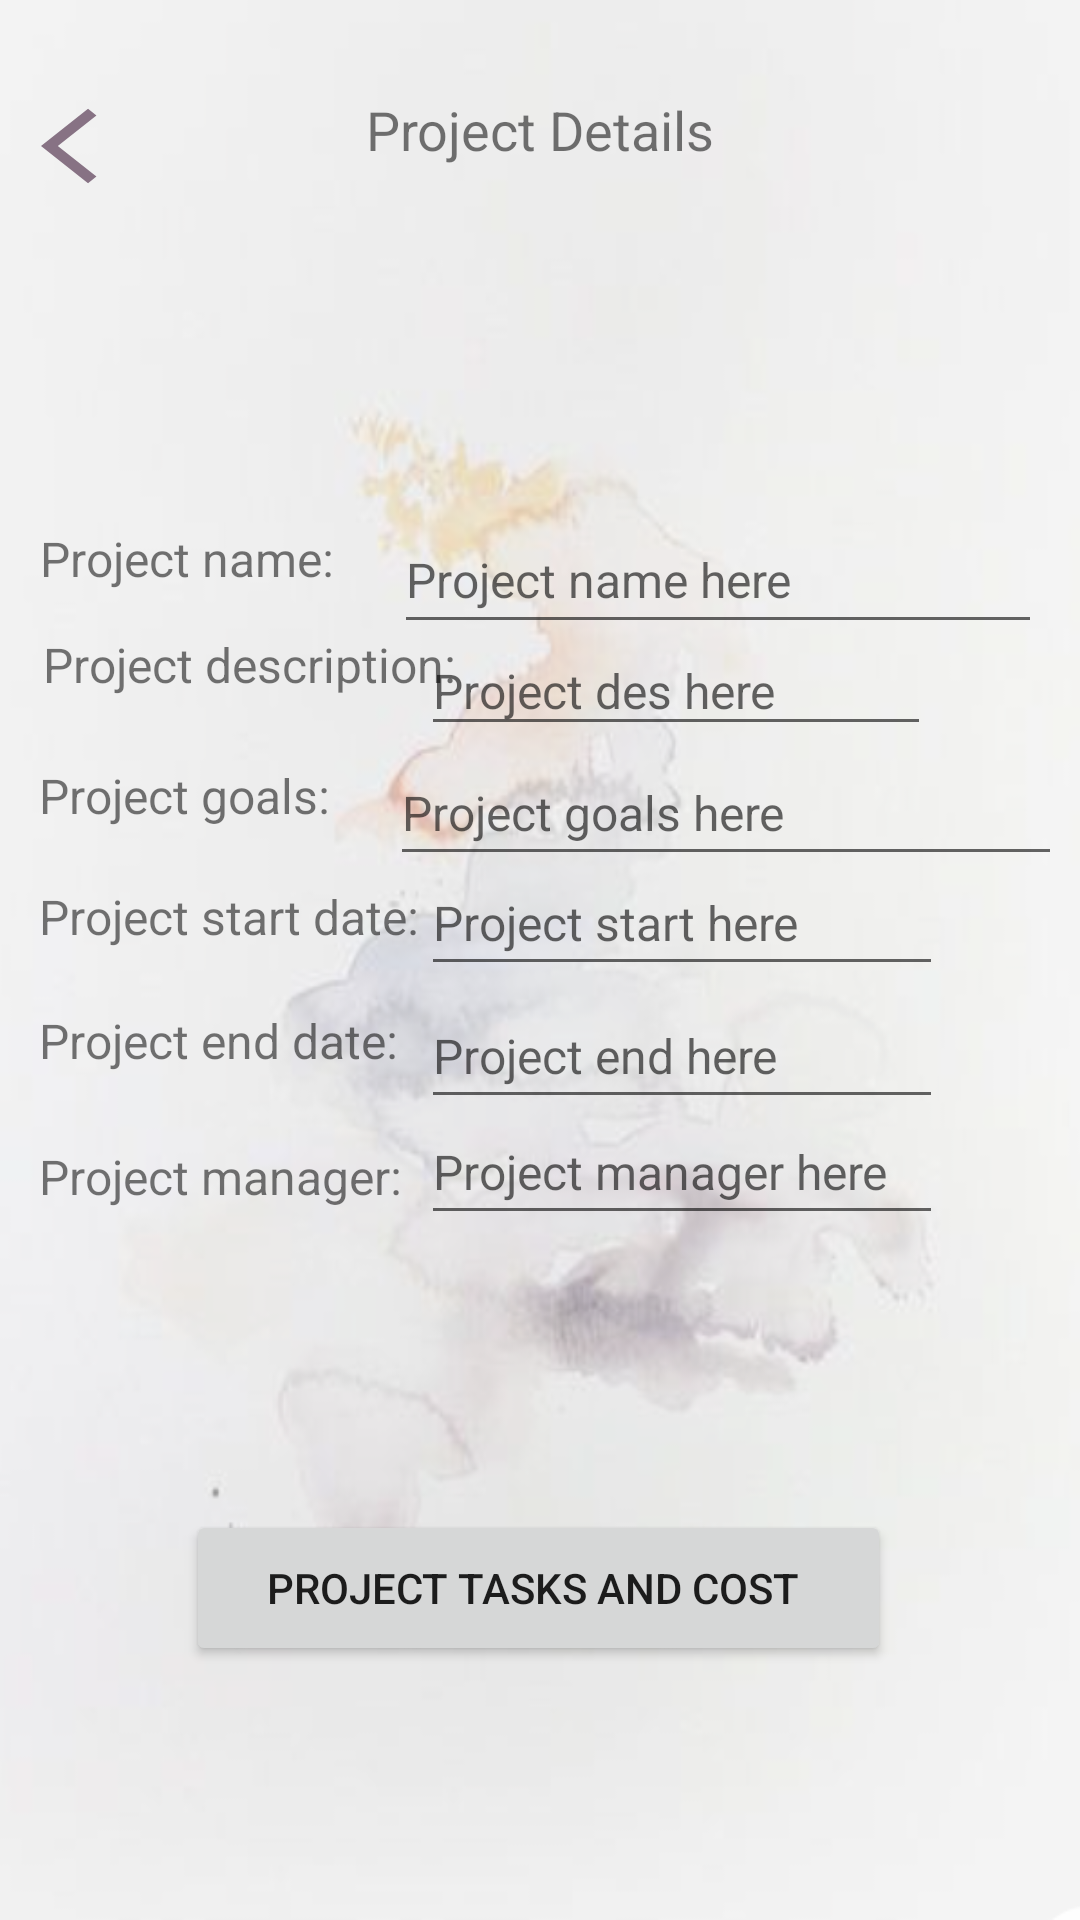

Icons on this 1080px x 1920px Android screen, each with the point to tap as (x,y):
arrow back: (68,146)
